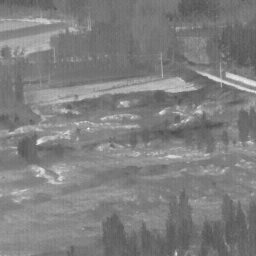aircraft: (88, 128, 90, 130)
